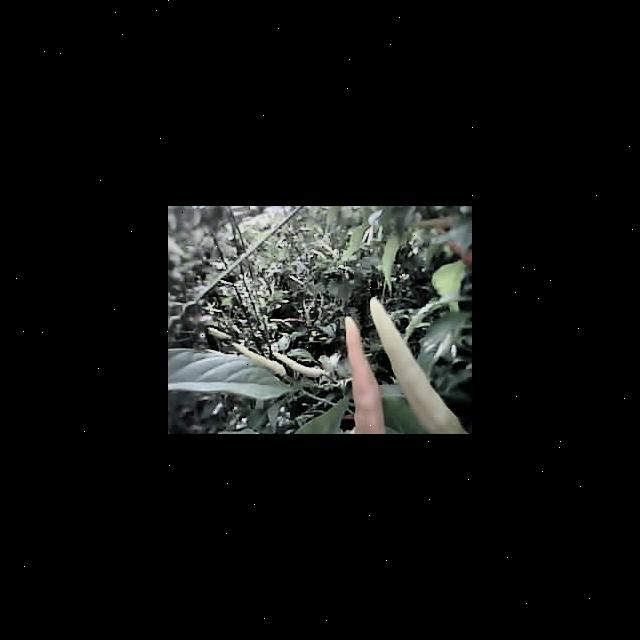Cabai: (342, 320, 381, 434)
